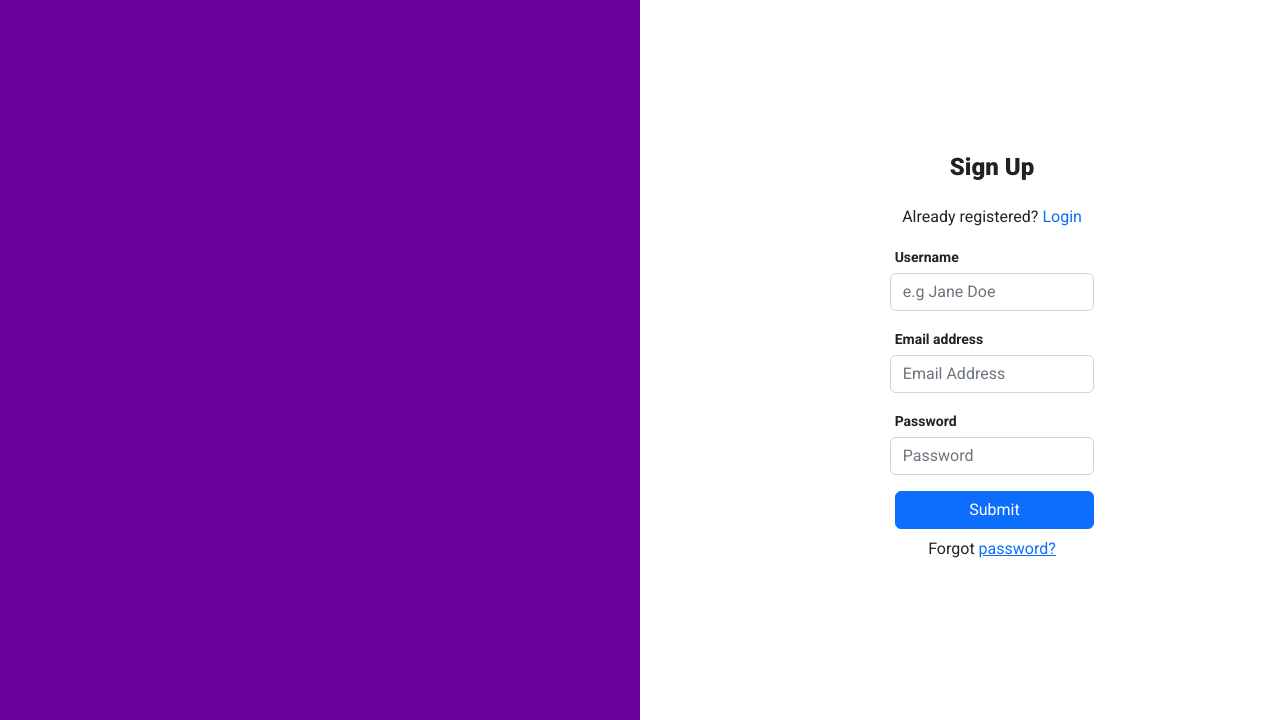
Test case: Verify signup page 'Sign In' leads to correct page
Click the text "Login" at (1062, 217), box [1042,207,1082,226]
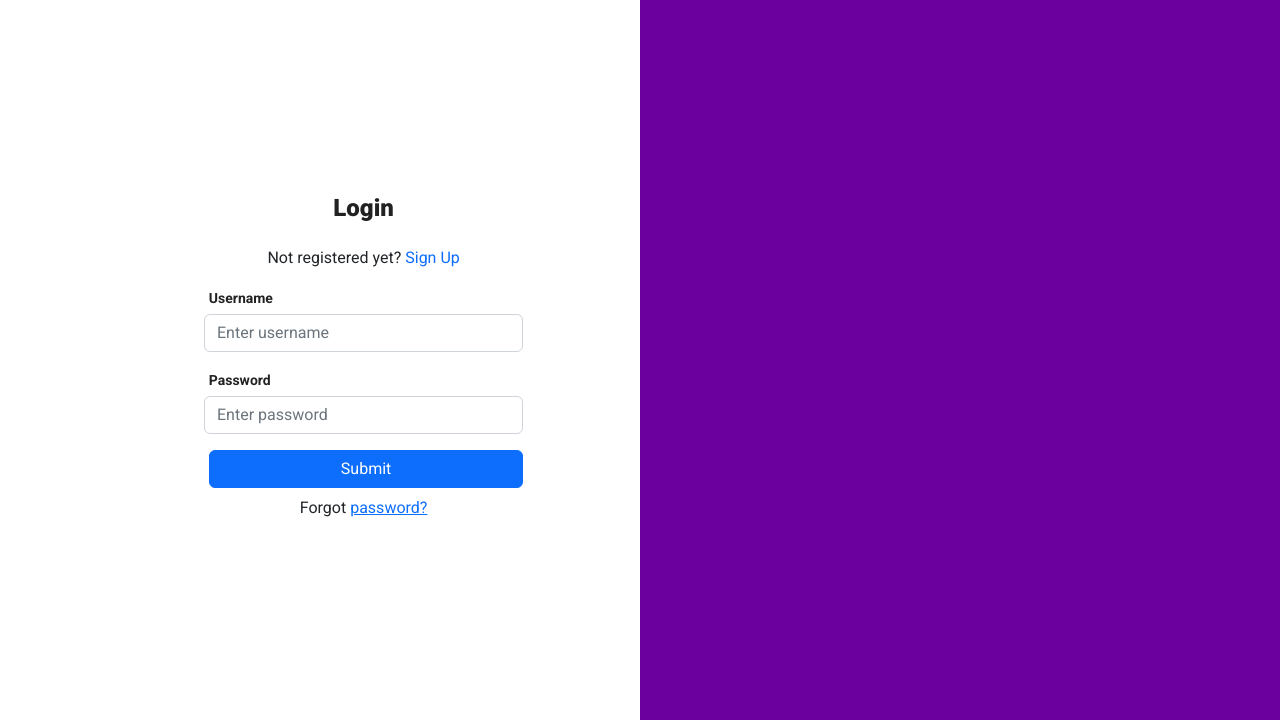
Check: the element with class "signinContainer" is shown
